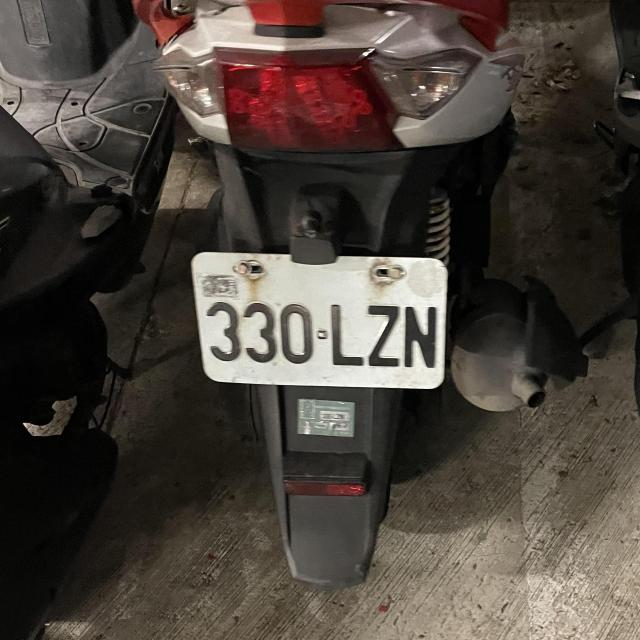W: (186, 248, 454, 388)
